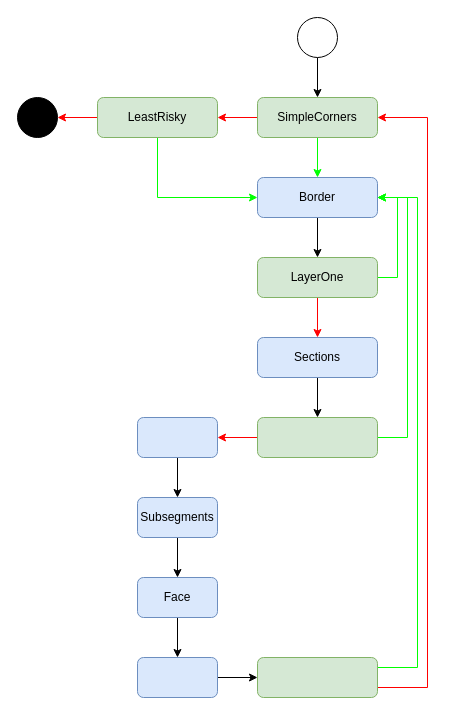
Some shapes in this 453 by 715 pixel diagram are drawn without their labels. Here are the shapes that lost their labels. From the top down, the centre of each, then its label:
the point at 177,437: Segments
the point at 317,437: LayerTwo
the point at 177,677: Combinations
the point at 317,677: SafeMoves
